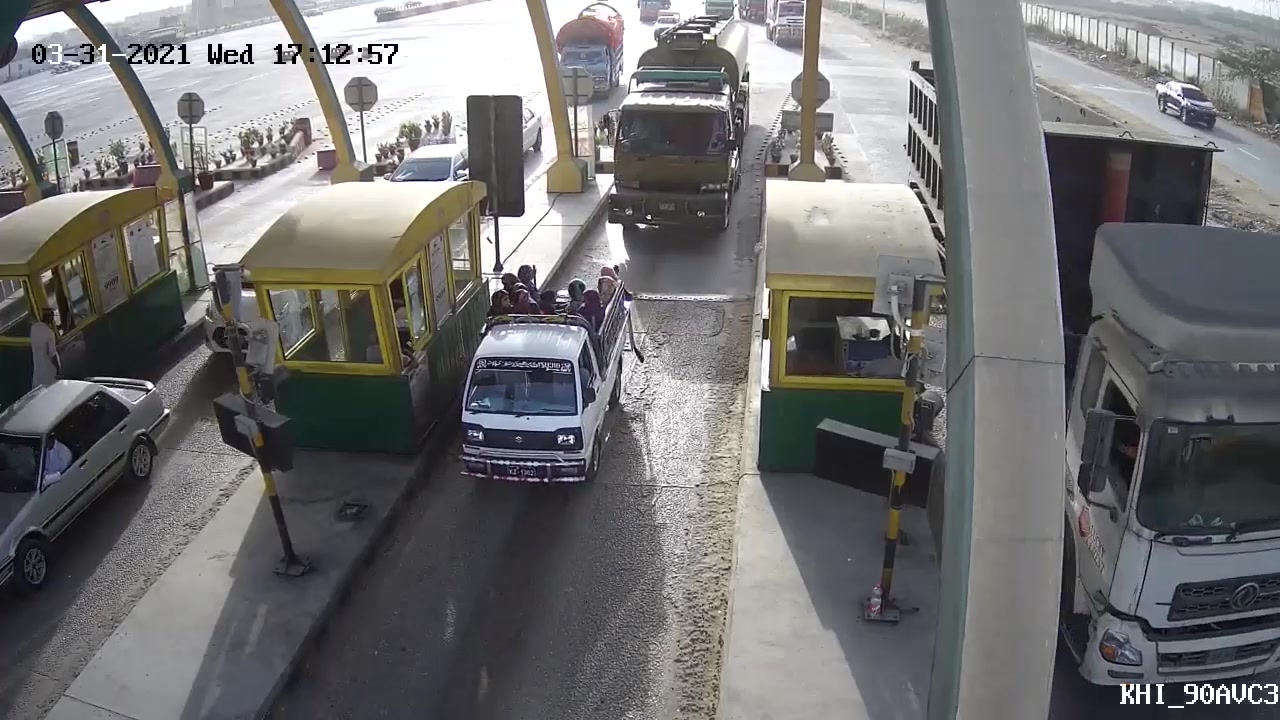F1: (457, 260, 640, 507)
F6: (604, 11, 758, 238)
